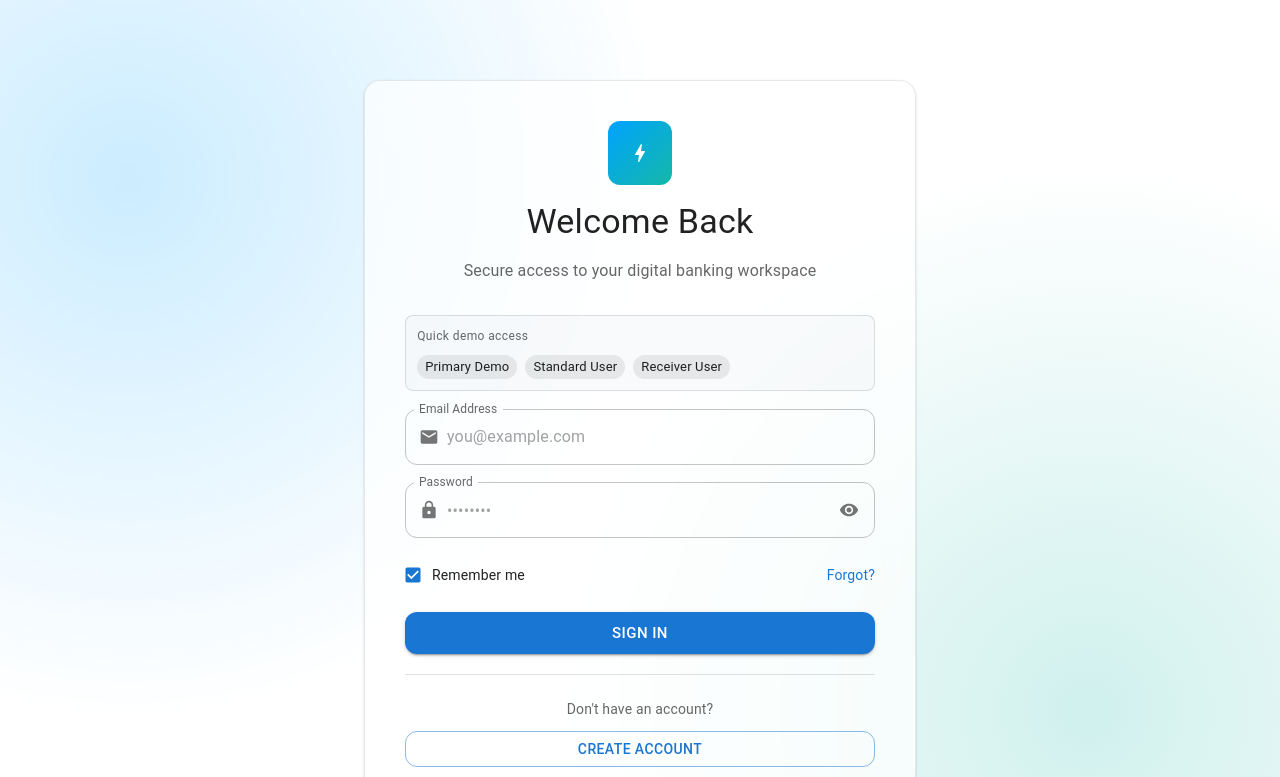
Test: Login form shows validation errors for empty fields
The width and height of the screenshot is (1280, 777).
Click the button "Sign In" at (640, 633), box [405,612,875,654]
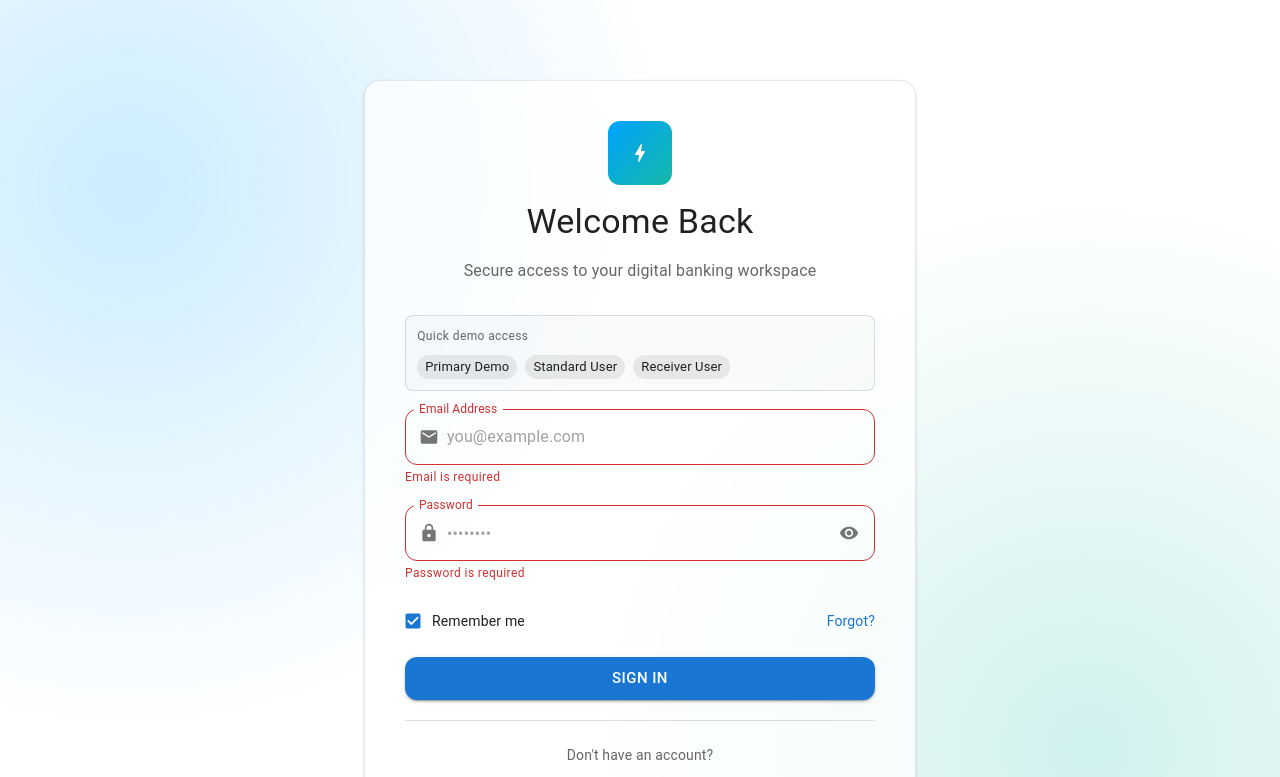
Expected: the text "Email is required" is shown, [405,470,500,484]
Expected: the text "Password is required" is shown, [405,566,525,580]
